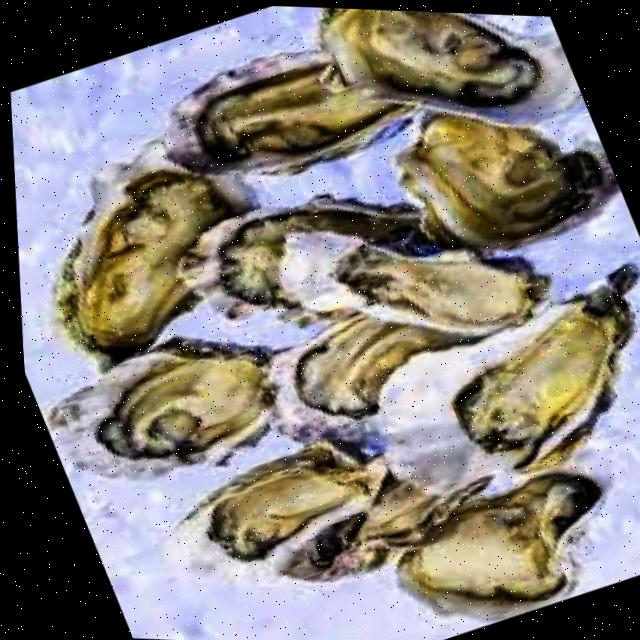Oyster-Open: (55, 141, 253, 355), (454, 264, 638, 470), (46, 338, 274, 476), (175, 196, 426, 321), (321, 7, 580, 120), (165, 51, 402, 172), (278, 232, 547, 336), (397, 114, 601, 246), (398, 473, 600, 599), (209, 440, 368, 559), (270, 314, 417, 441)
